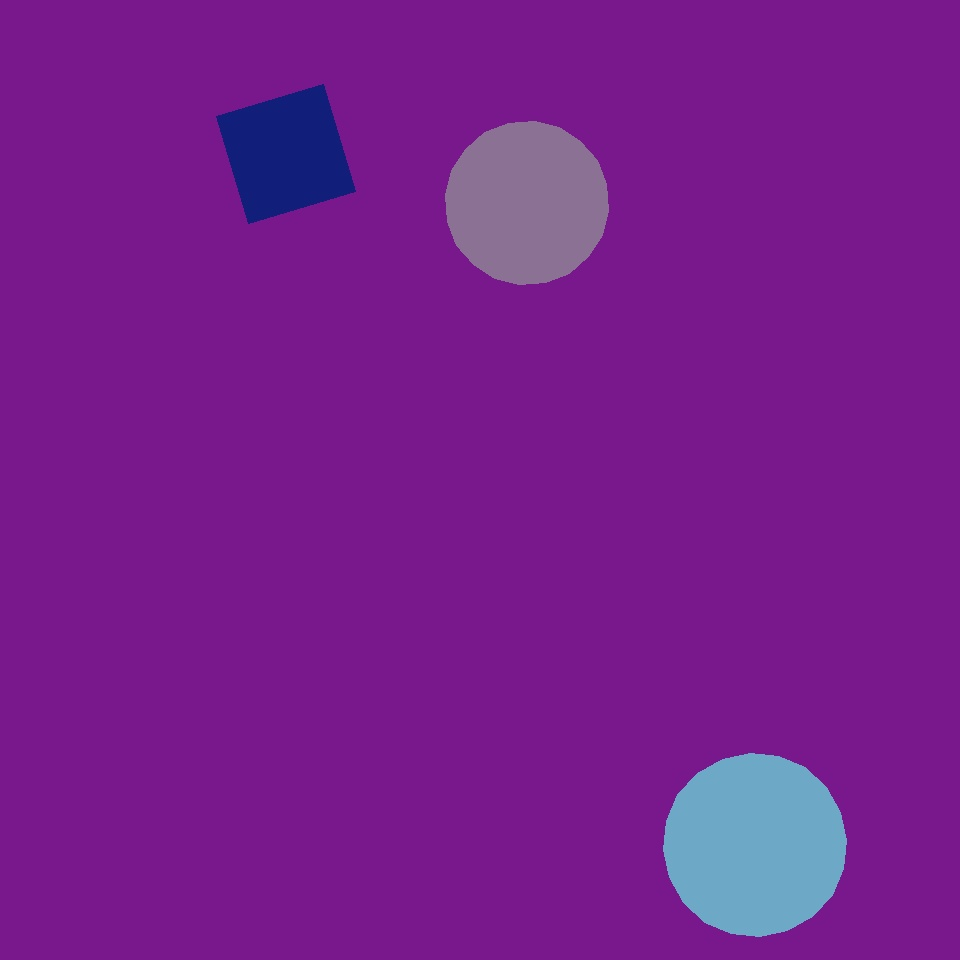circle: (221, 404, 459, 652), (475, 479, 711, 719), (84, 295, 227, 420)
square: (204, 30, 517, 343), (135, 629, 425, 919), (216, 84, 356, 224)
triangle: (444, 272, 711, 539), (261, 369, 492, 599), (664, 754, 846, 936), (446, 122, 608, 284)
